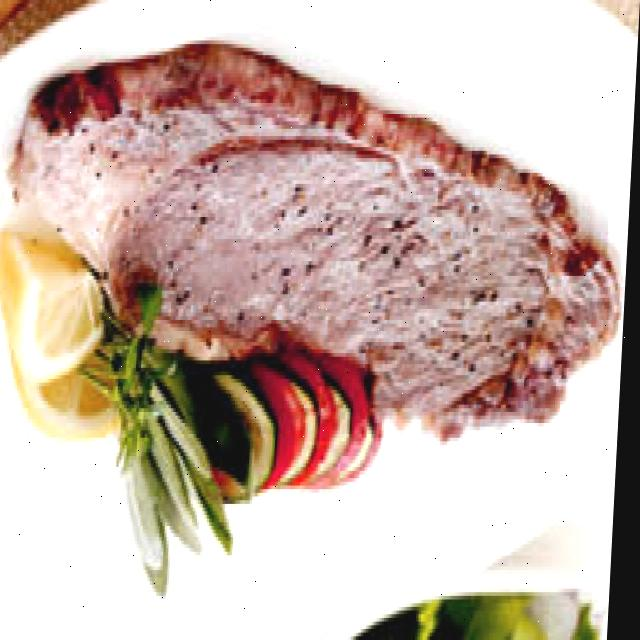牛肉菜式: (0, 36, 639, 456)
